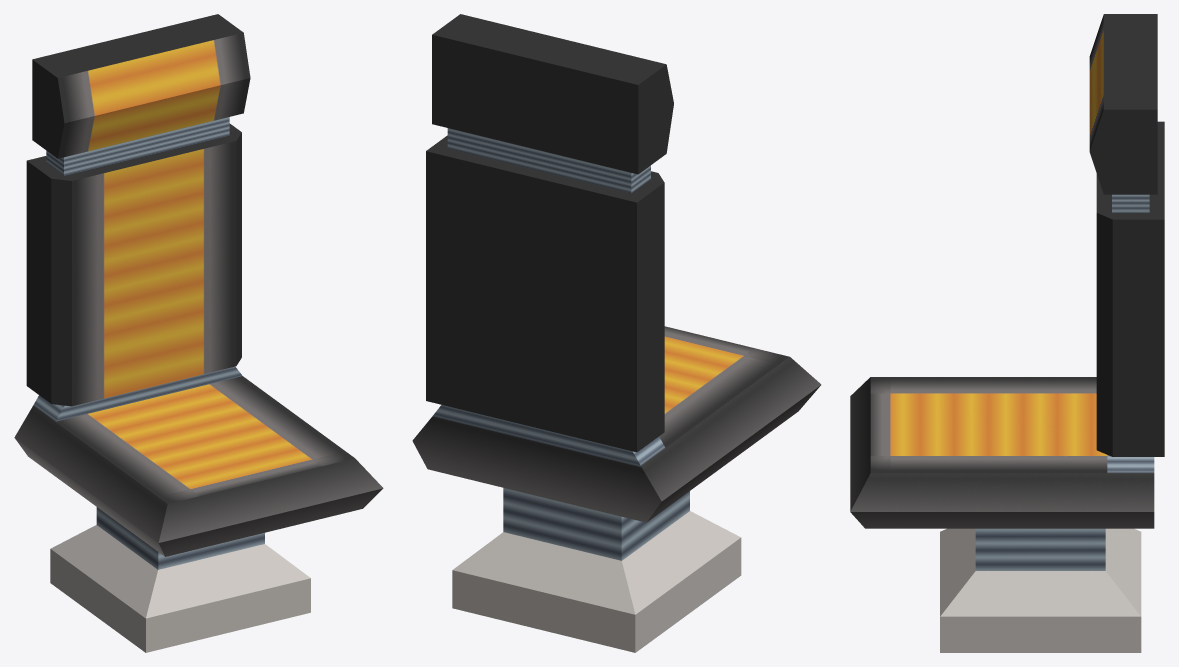
File: Chair.fbx
3 views of the same model, side by side, from view 1: azimuth 30°, elevation 25°; view 2: azimuth 150°, elevation 25°; view 3: azimuth 270°, elevation 25° (orthographic). The views are drawn at different scales.
Parts seen in each view (by area): view 1: Chair; view 2: Chair; view 3: Chair.
Part boxes in pixels (left/top/right/bottom): Chair: left=14, top=14, right=383, bottom=652; Chair: left=412, top=14, right=821, bottom=652; Chair: left=850, top=14, right=1164, bottom=652.
Bounding box in the file's own units: 74.6 × 165 × 85.67.
Materials: 1 (1 with a texture image).
